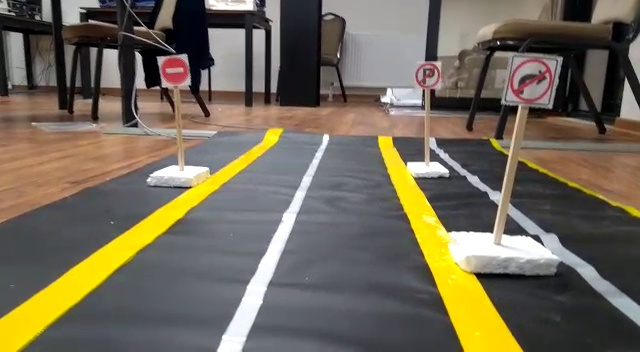girisi_olmayan_yol: (159, 52, 189, 87)
park_yapilmaz: (414, 63, 442, 88)
saga_donulmez: (505, 51, 555, 108)
